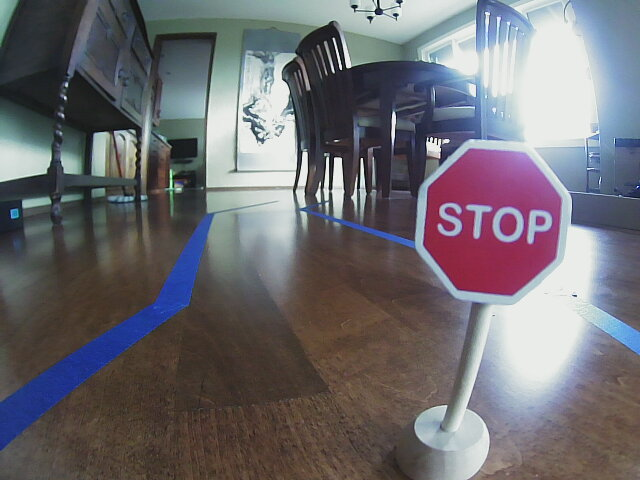StopSign: (422, 143, 562, 300)
